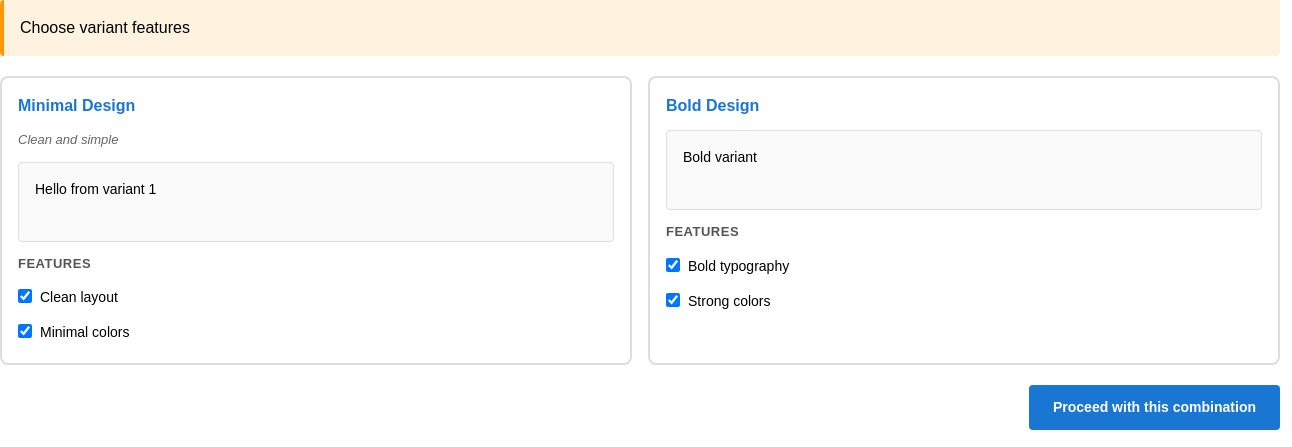
Test case: VariantSelectionUI › disables proceed button while submitting
Step 1. Click the button "Proceed with this combination" → (1154, 408), box [1029,385,1280,430]
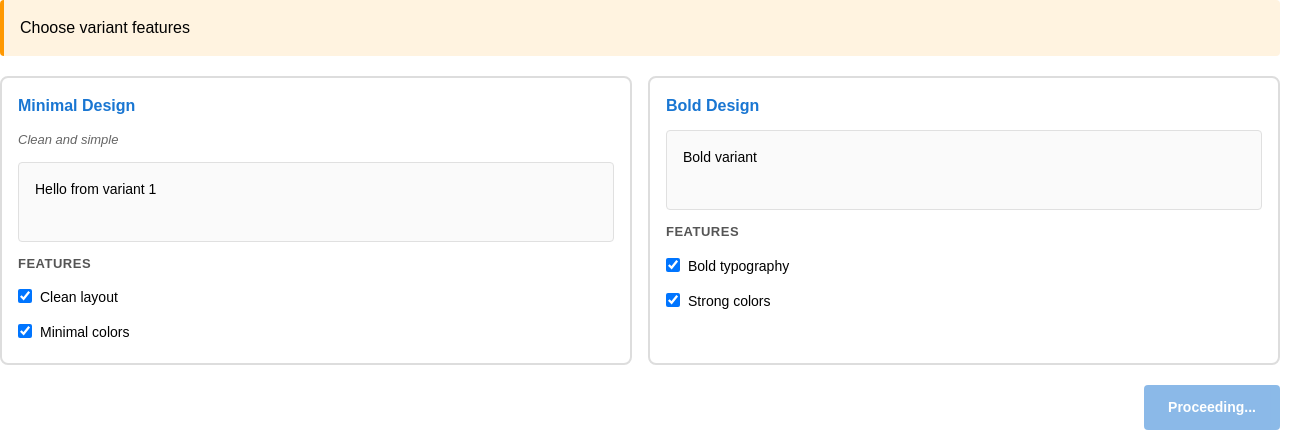
Expected: the button "Proceeding..." is disabled, [1144,385,1280,430]
